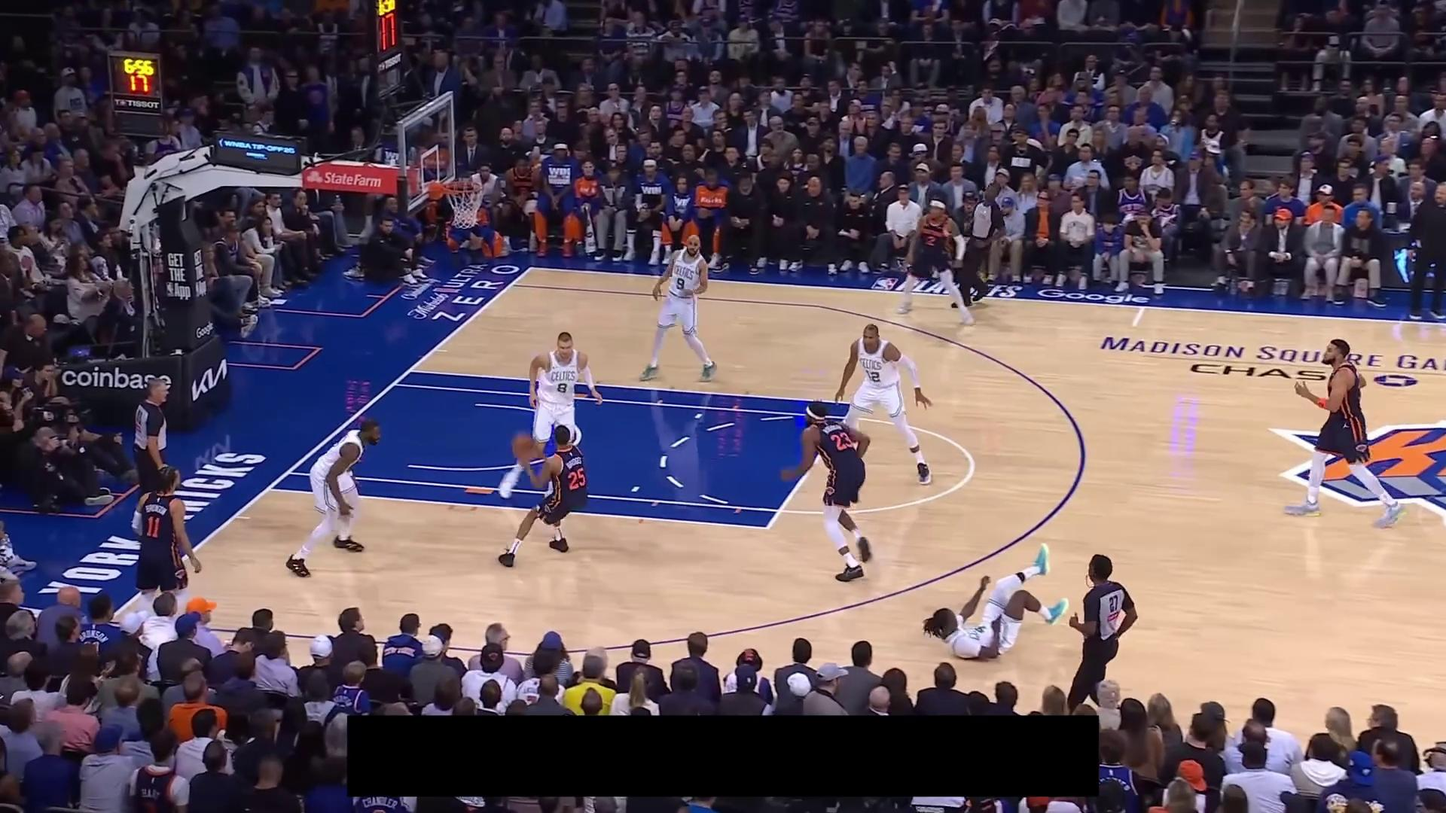ball: (514, 435, 533, 456)
number: (830, 431, 853, 452), (567, 467, 586, 491), (146, 515, 160, 538), (866, 369, 881, 384), (556, 381, 569, 395), (676, 276, 686, 291), (925, 235, 936, 246), (975, 624, 987, 633)
player: (1283, 336, 1406, 530), (498, 330, 603, 501), (923, 541, 1068, 661), (780, 400, 875, 583), (831, 322, 935, 487), (285, 416, 383, 579), (120, 464, 204, 624), (639, 233, 718, 384), (895, 198, 975, 327)
player-in-possession: (497, 424, 588, 568)
referee: (1067, 554, 1139, 714), (953, 184, 1008, 309), (133, 377, 173, 546)
rim: (441, 179, 484, 194)
